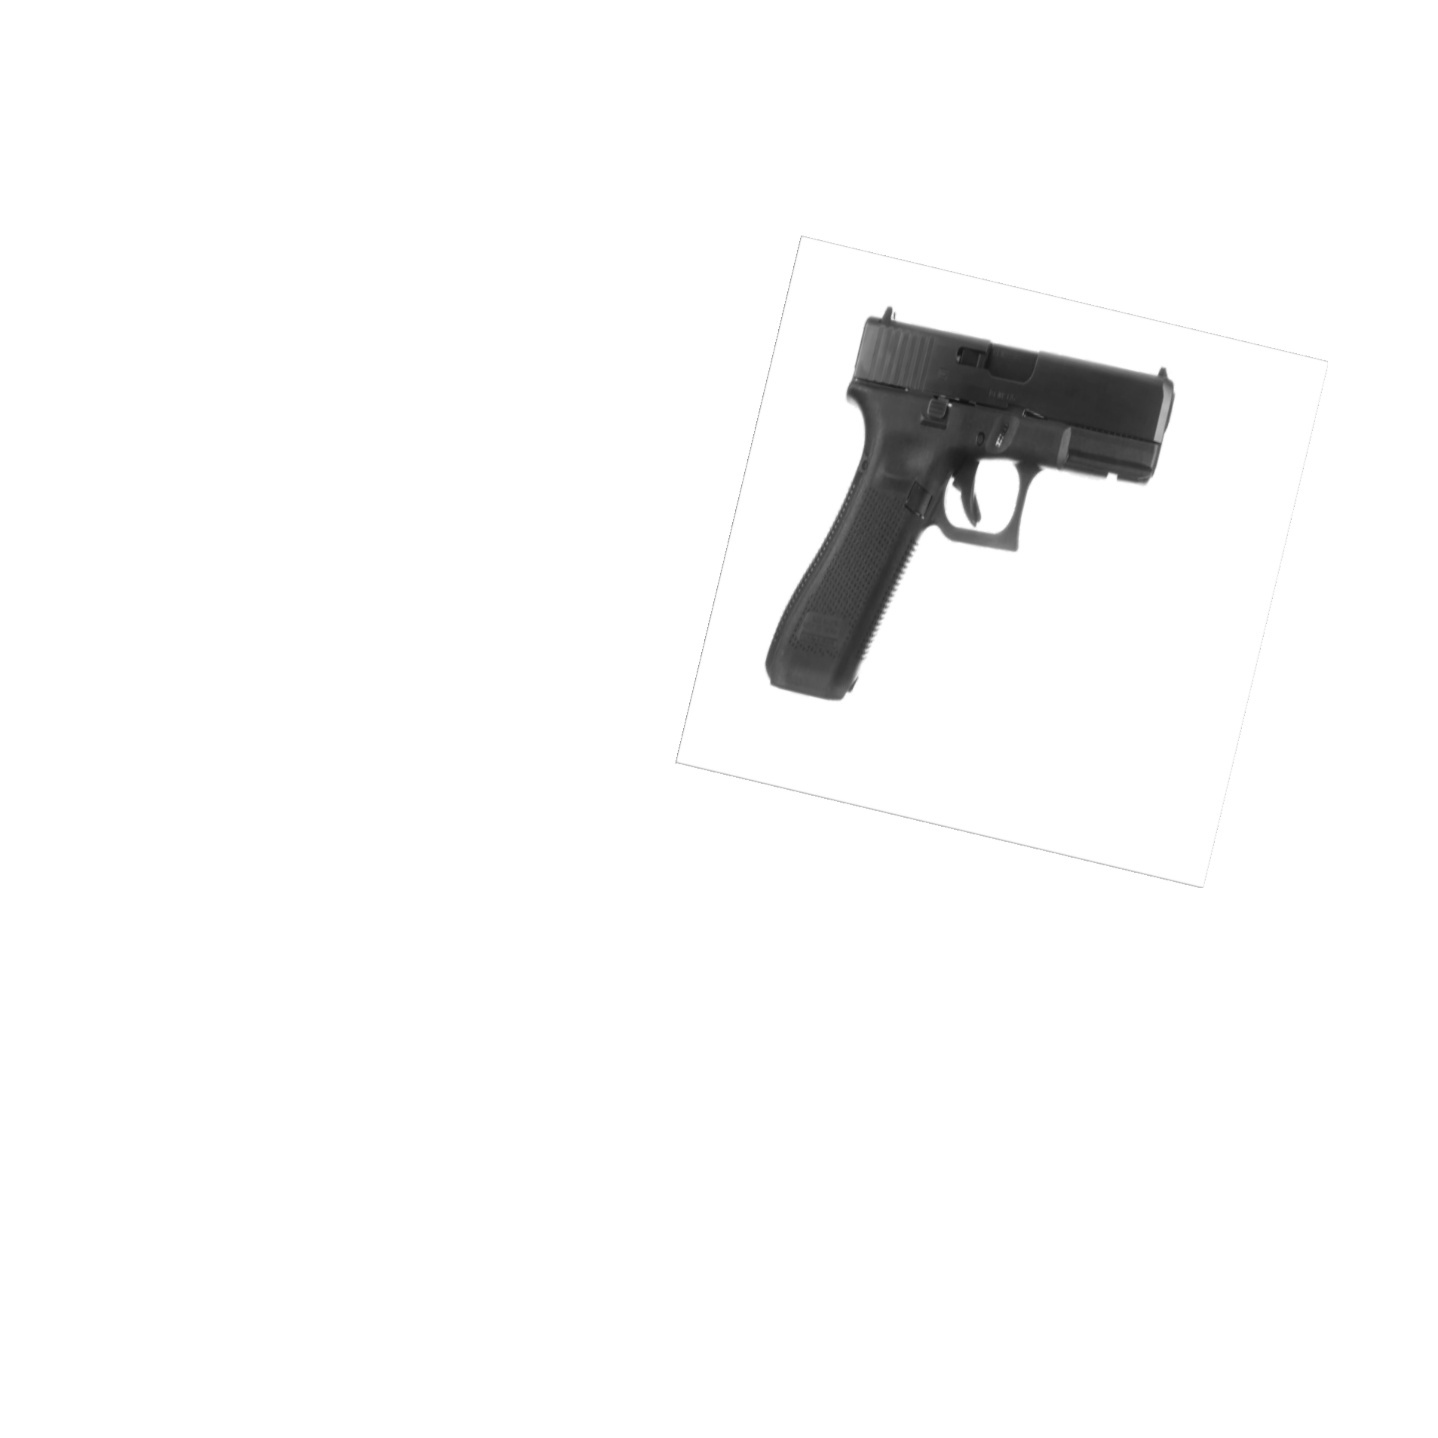gun: (765, 306, 1175, 705)
